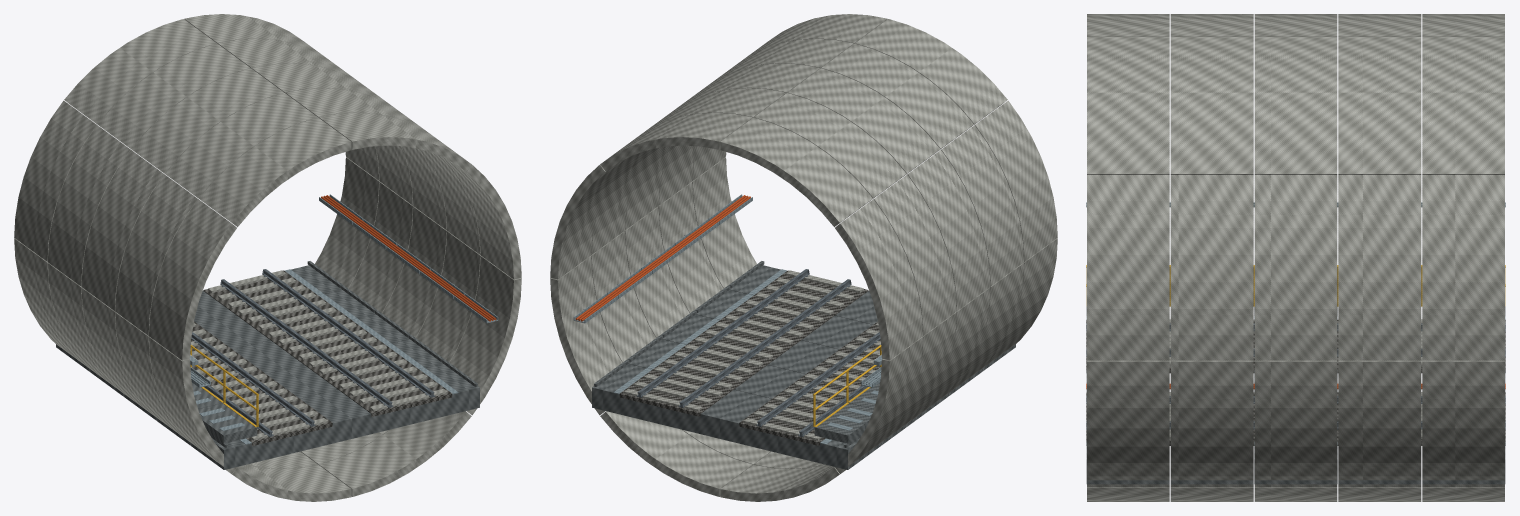
File: PZ_MorrowMetro_DoubleTrackTunnel_10m_COMPLETE.glb
3 renders of one model, left to right at view 1: azimuth 30°, elevation 25°; view 2: azimuth 150°, elevation 25°; view 3: azimuth 270°, elevation 25°, orthographic. The views are drawn at different scales.
Parts seen in each view (by area): view 1: INVERT_Slab_01, LINING_R01_Wedge04, LINING_R01_Wedge03, EAST_BallastStrip, LINING_R03_Wedge04, LINING_R02_Wedge04, LINING_R04_Wedge04, LINING_R05_Wedge04, LINING_R03_Wedge03, LINING_R02_Wedge03, LINING_R05_Wedge03, LINING_R04_Wedge03 (+33 smaller); view 2: INVERT_Slab_05, LINING_R05_Wedge04, LINING_R05_Wedge03, EAST_BallastStrip, LINING_R03_Wedge04, LINING_R04_Wedge04, LINING_R01_Wedge04, LINING_R02_Wedge04, LINING_R03_Wedge03, LINING_R01_Wedge03, LINING_R04_Wedge03, LINING_R02_Wedge03 (+33 smaller); view 3: LINING_R02_Wedge01, LINING_R03_Wedge01, LINING_R04_Wedge01, LINING_R01_Wedge01, LINING_R05_Wedge01, LINING_R02_Wedge02, LINING_R03_Wedge02, LINING_R04_Wedge02, LINING_R01_Wedge02, LINING_R05_Wedge02, LINING_R02_Wedge08, LINING_R04_Wedge08 (+16 smaller).
Boxes of the visible parts, x1,y1,x2,y2 form: INVERT_Slab_01: (190,364,479,469); LINING_R01_Wedge04: (149,199,236,360); LINING_R01_Wedge03: (199,117,351,226); EAST_BallastStrip: (203,270,452,416); LINING_R03_Wedge04: (81,150,164,310); LINING_R02_Wedge04: (115,174,197,335); LINING_R04_Wedge04: (48,125,130,286); LINING_R05_Wedge04: (14,100,96,261); LINING_R03_Wedge03: (132,68,284,176); LINING_R02_Wedge03: (165,93,317,201); LINING_R05_Wedge03: (64,19,216,126); LINING_R04_Wedge03: (98,43,250,150); INVERT_Slab_05: (592,364,881,469); LINING_R05_Wedge04: (835,199,922,360); LINING_R05_Wedge03: (720,117,872,226); EAST_BallastStrip: (619,270,868,416); LINING_R03_Wedge04: (907,150,990,310); LINING_R04_Wedge04: (874,174,956,335); LINING_R01_Wedge04: (975,100,1057,261); LINING_R02_Wedge04: (941,125,1023,286); LINING_R03_Wedge03: (787,68,939,176); LINING_R01_Wedge03: (855,19,1007,126); LINING_R04_Wedge03: (754,93,906,201); LINING_R02_Wedge03: (821,43,973,150); LINING_R02_Wedge01: (1170,175,1253,360); LINING_R03_Wedge01: (1254,175,1337,360); LINING_R04_Wedge01: (1338,175,1421,360); LINING_R01_Wedge01: (1087,175,1169,360); LINING_R05_Wedge01: (1422,175,1504,360); LINING_R02_Wedge02: (1170,37,1253,174); LINING_R03_Wedge02: (1254,37,1337,174); LINING_R04_Wedge02: (1338,37,1421,174); LINING_R01_Wedge02: (1087,37,1169,174); LINING_R05_Wedge02: (1422,37,1504,174); LINING_R02_Wedge08: (1170,360,1253,486); LINING_R04_Wedge08: (1338,360,1421,486).
Size of the model in its own units: 11.64 by 11.64 by 10.
Materials: 9 (9 with a texture image).
